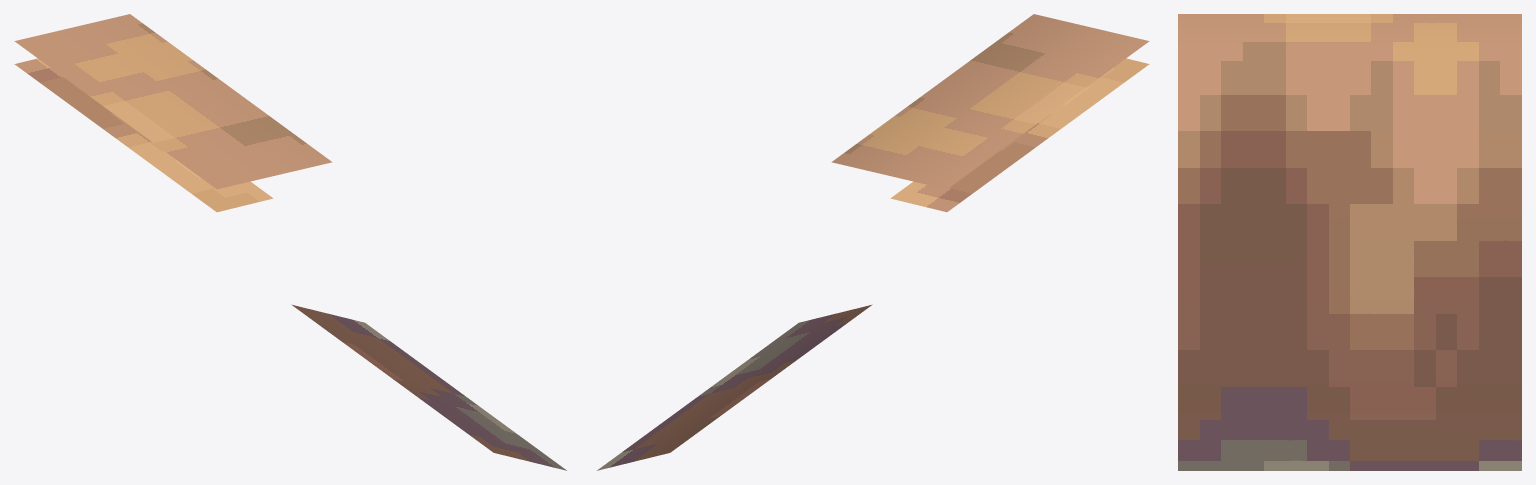
3 renders of one model, left to right at view 1: azimuth 30°, elevation 25°; view 2: azimuth 150°, elevation 25°; view 3: azimuth 270°, elevation 25°, orthographic. The views are drawn at different scales.
Size of the model in its own units: 1 by 1 by 1.
2 materials, 2 textured.
